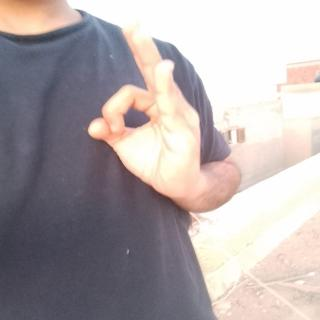Space: (80, 18, 214, 202)
